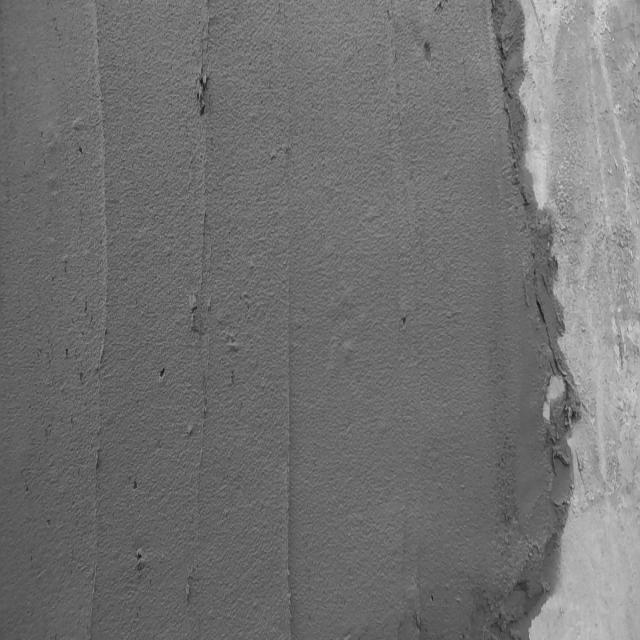trowels marks: (283, 269, 298, 640)
